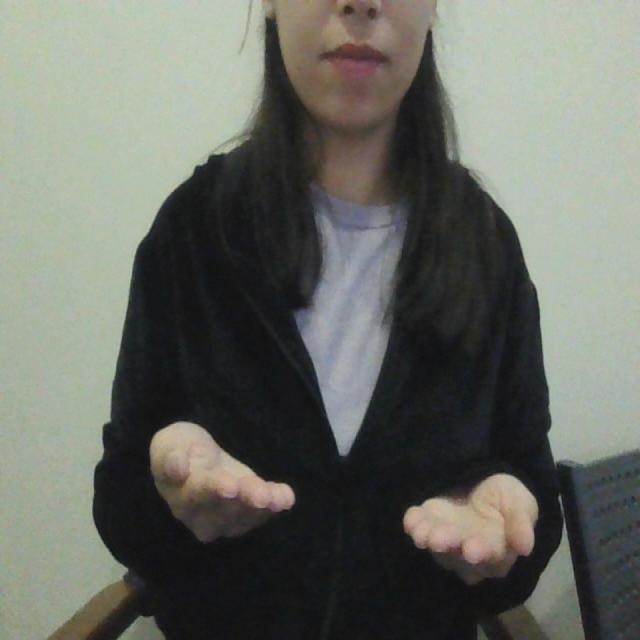Evet: (134, 418, 540, 585)
